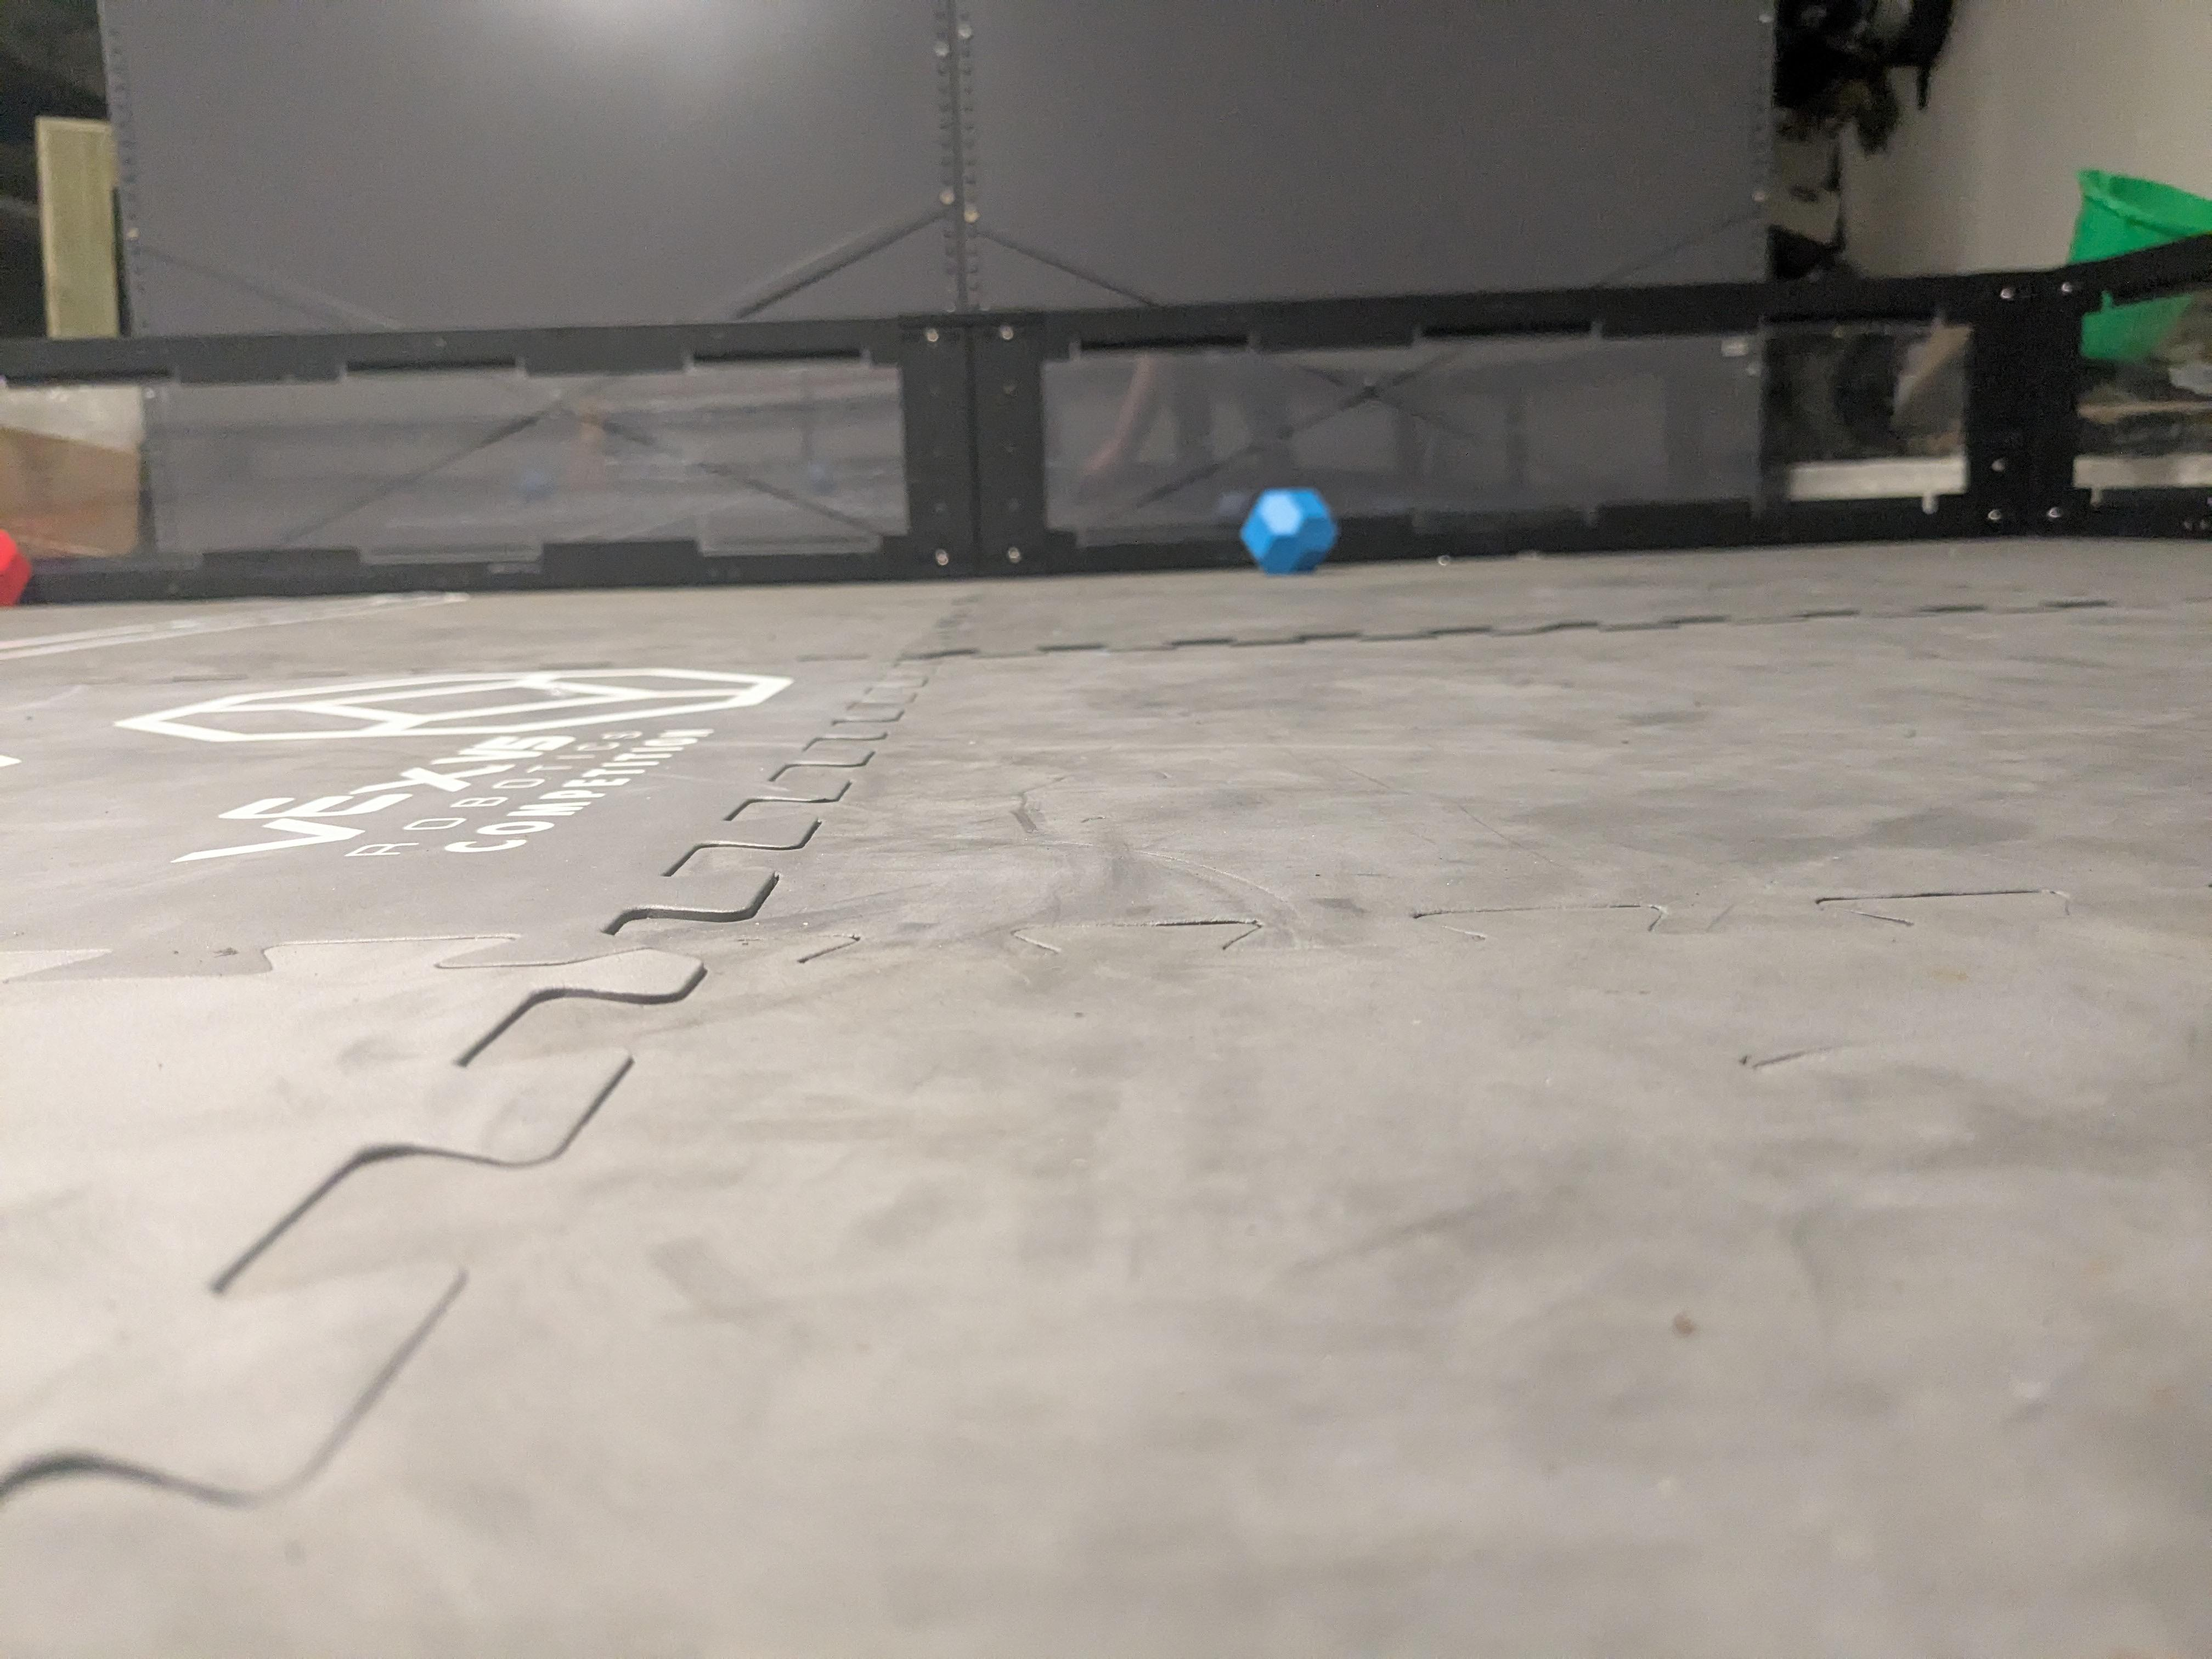Vex-Pieces-BLUE: (1244, 490, 1338, 575)
